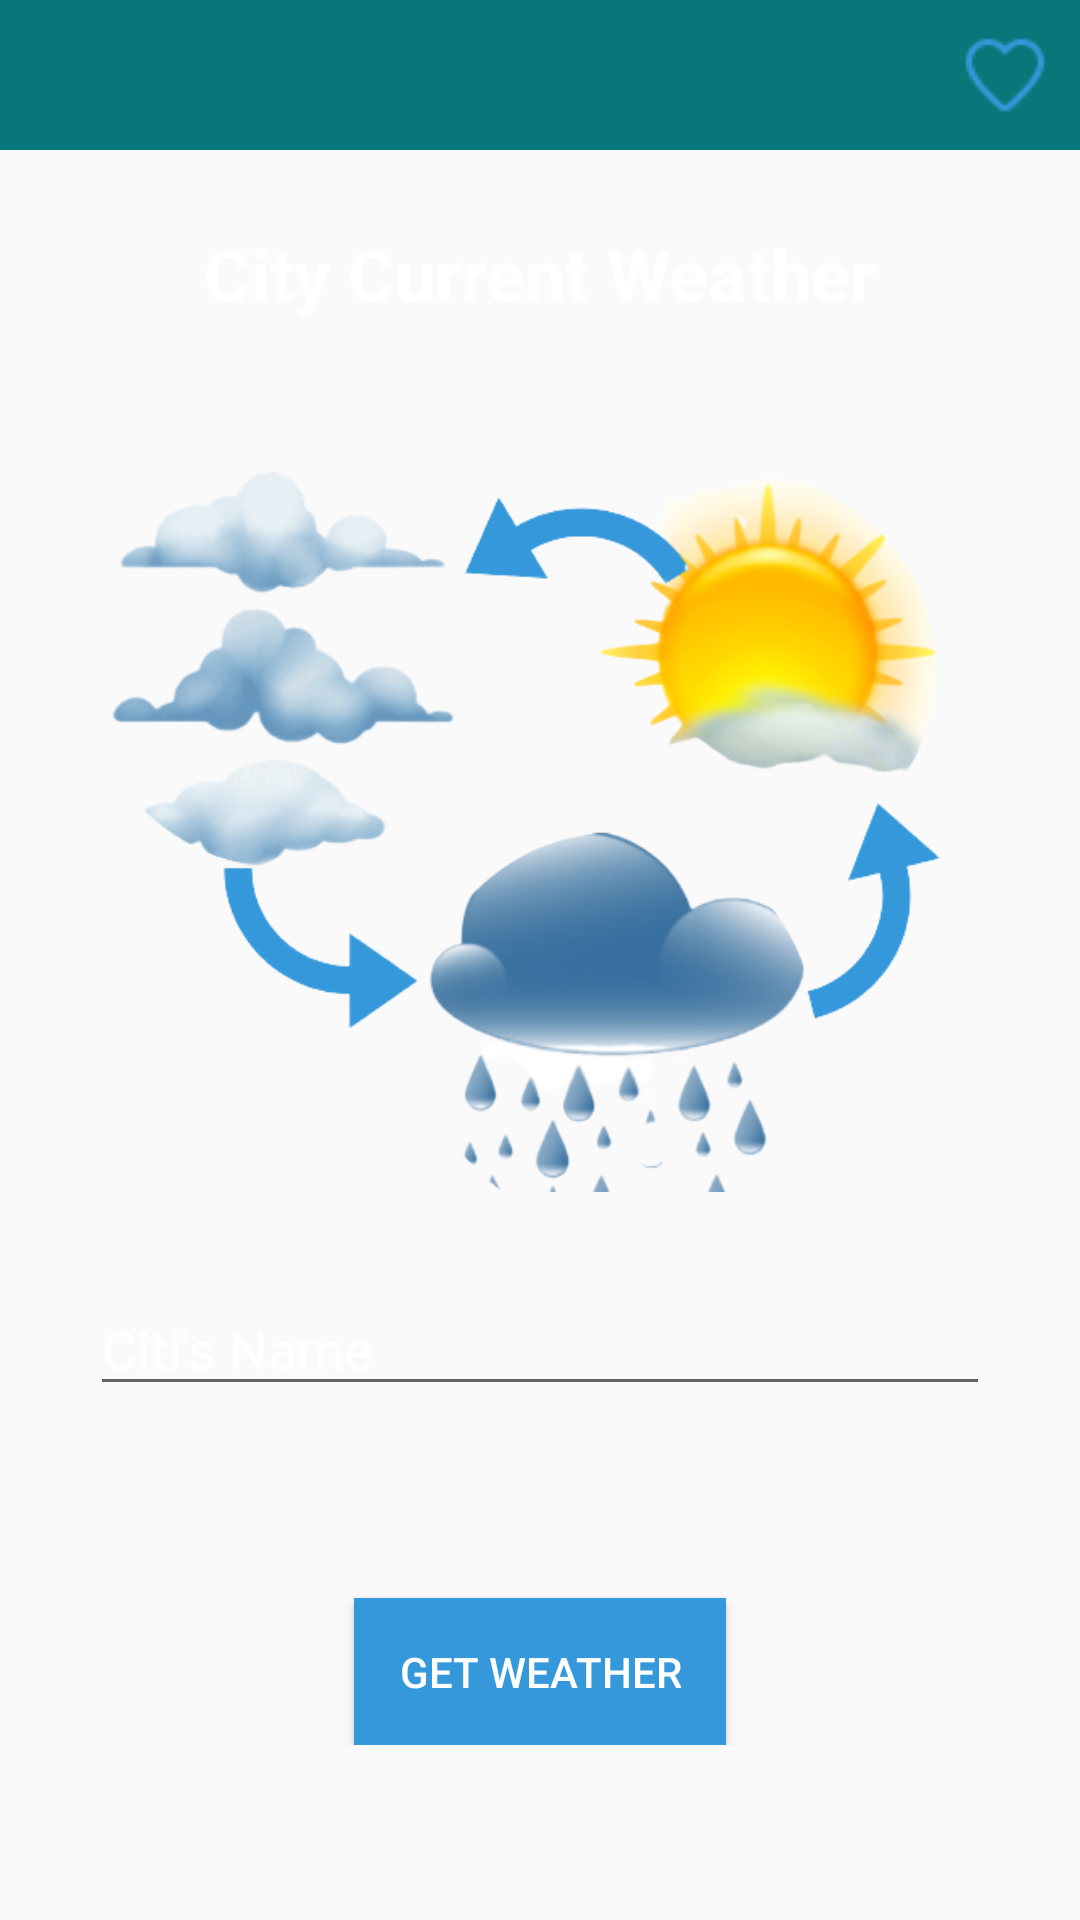

Locate icon controls on the screen. Image size 1080 x 1920, boxes as bbox=(x1, y1, x2, y2).
coeurs: bbox=(965, 38, 1045, 112)
